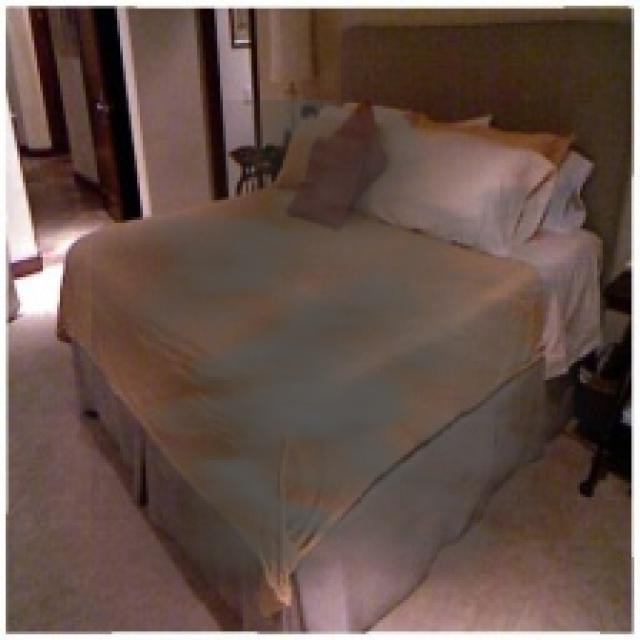smoke: (91, 100, 632, 623)
